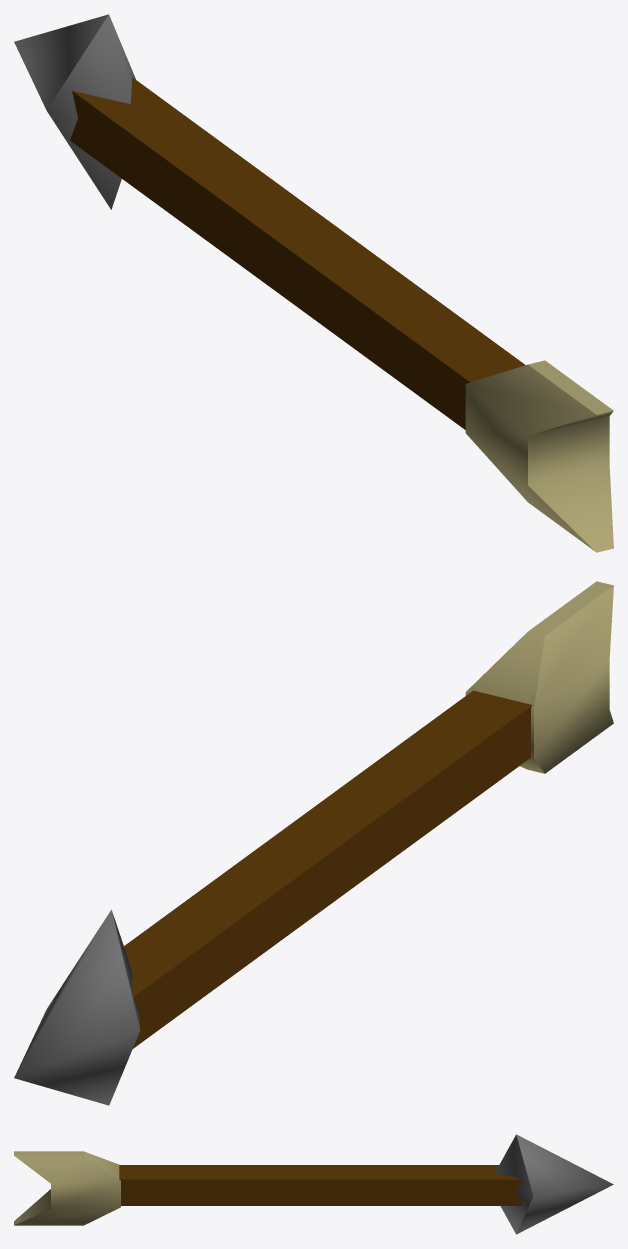
Rendered from Arrow.fbx.
3 views of the same model, one above another, from view 1: azimuth 30°, elevation 25°; view 2: azimuth 150°, elevation 25°; view 3: azimuth 270°, elevation 25° (orthographic). The views are drawn at different scales.
Visible parts, largest first — view 1: pCube13; view 2: pCube13; view 3: pCube13.
Part boxes in pixels (<box>): pCube13: <box>14,14,613,552</box>; pCube13: <box>14,581,613,1105</box>; pCube13: <box>14,1134,613,1234</box>.
Size of the model in its own units: 1.63 by 3.27 by 17.83.
